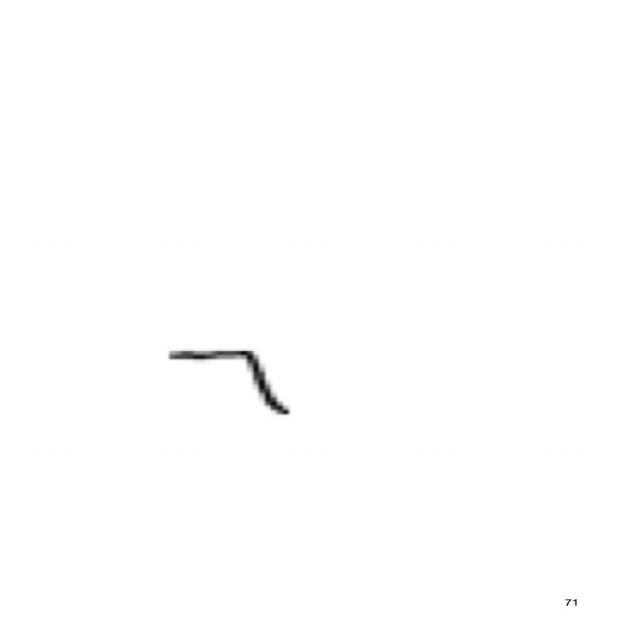6 -six-: (148, 335, 306, 425)
